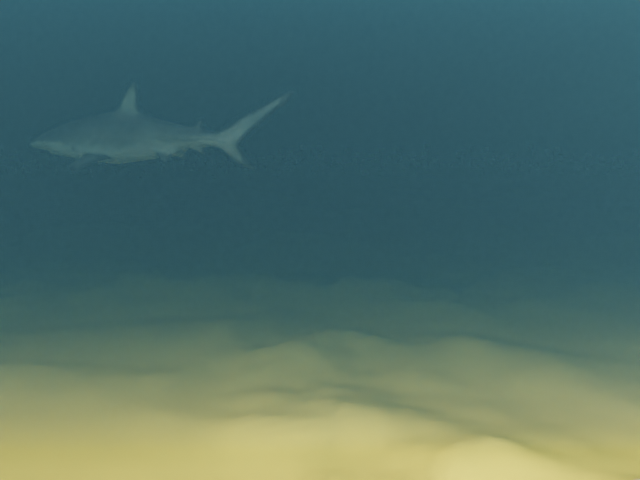Carribean Shark.001: (30, 81, 294, 172)
